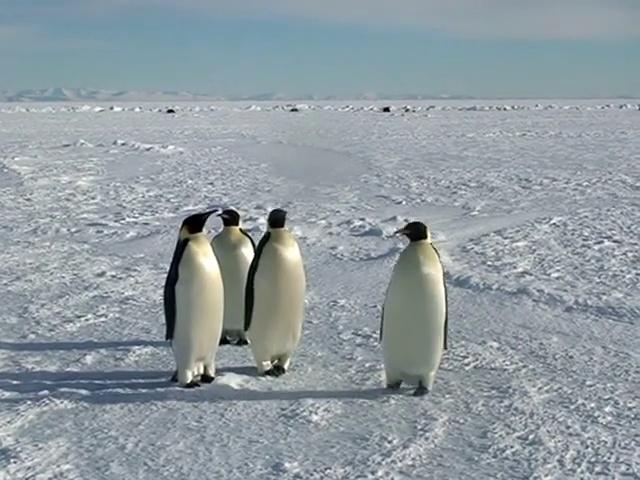animal: (380, 221, 447, 395)
